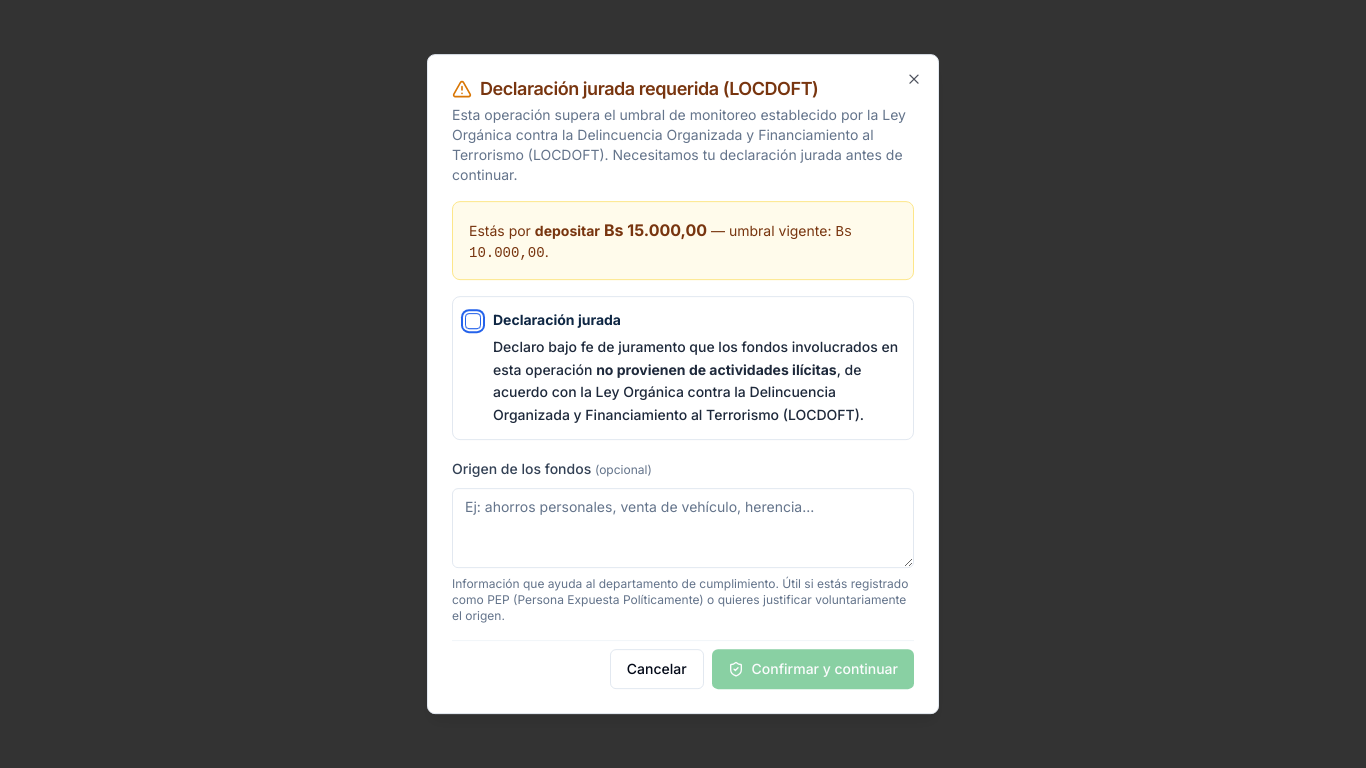
Scenario: LocdoftOperacionModal › al tildar la declaración, el botón se habilita
What coordinates should you click on to do the following:
click the checkbox named "Declaro que los fondos provienen de actividades lícitas"
I would click on:
 (473, 321)
Its box is [465,313,481,329].
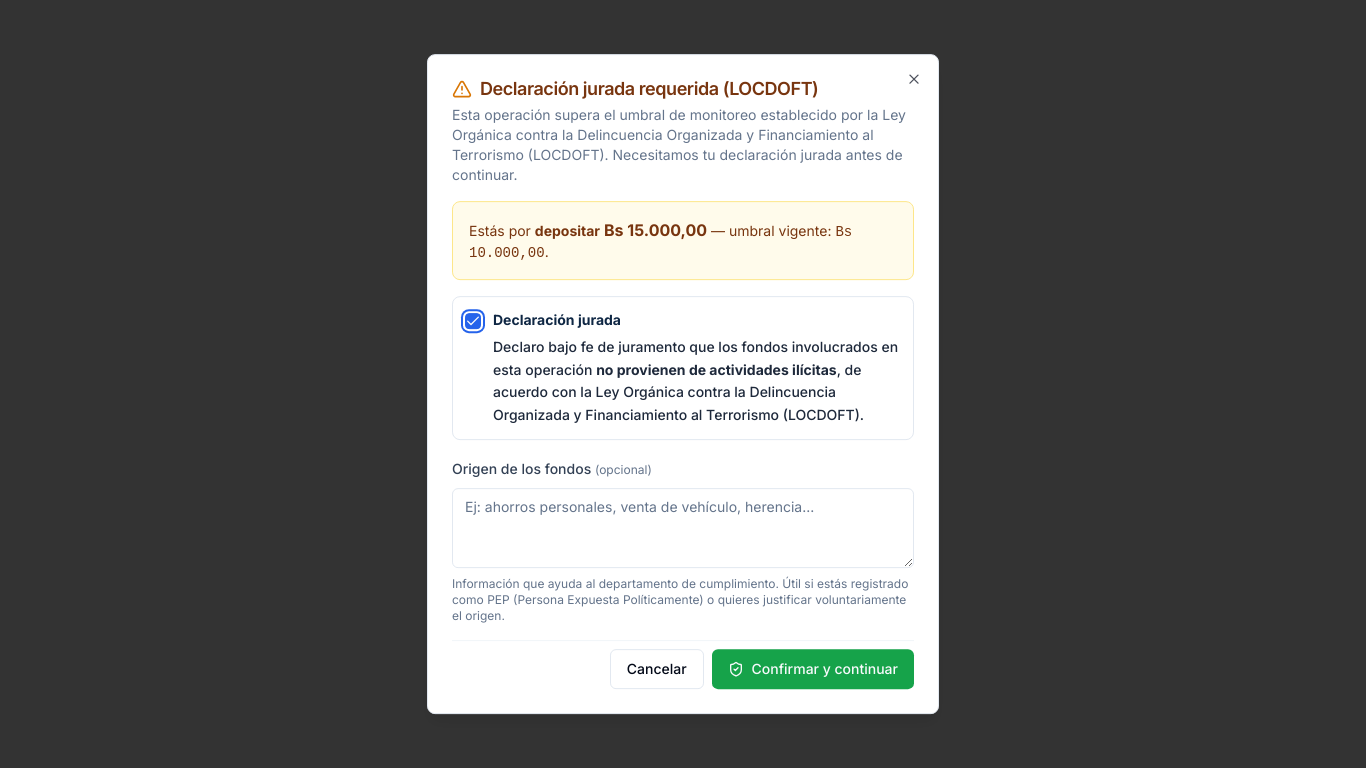
Check: the button "Confirmar y continuar" is enabled, box [712,649,914,689]
